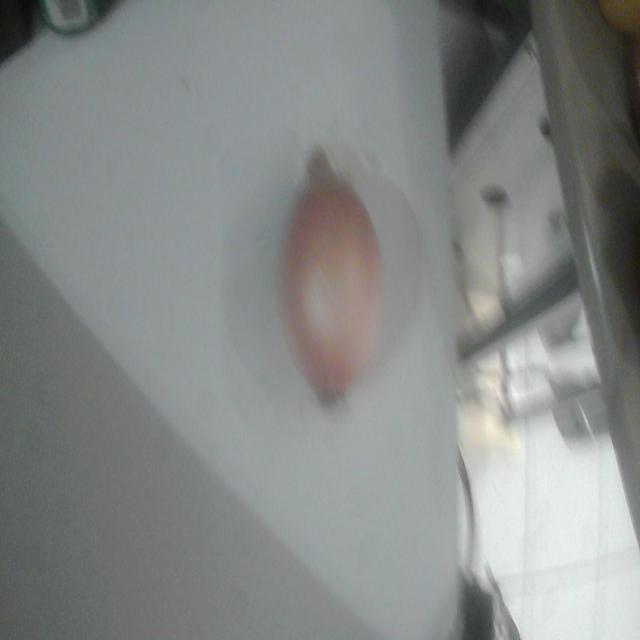Onion: (280, 152, 383, 408)
